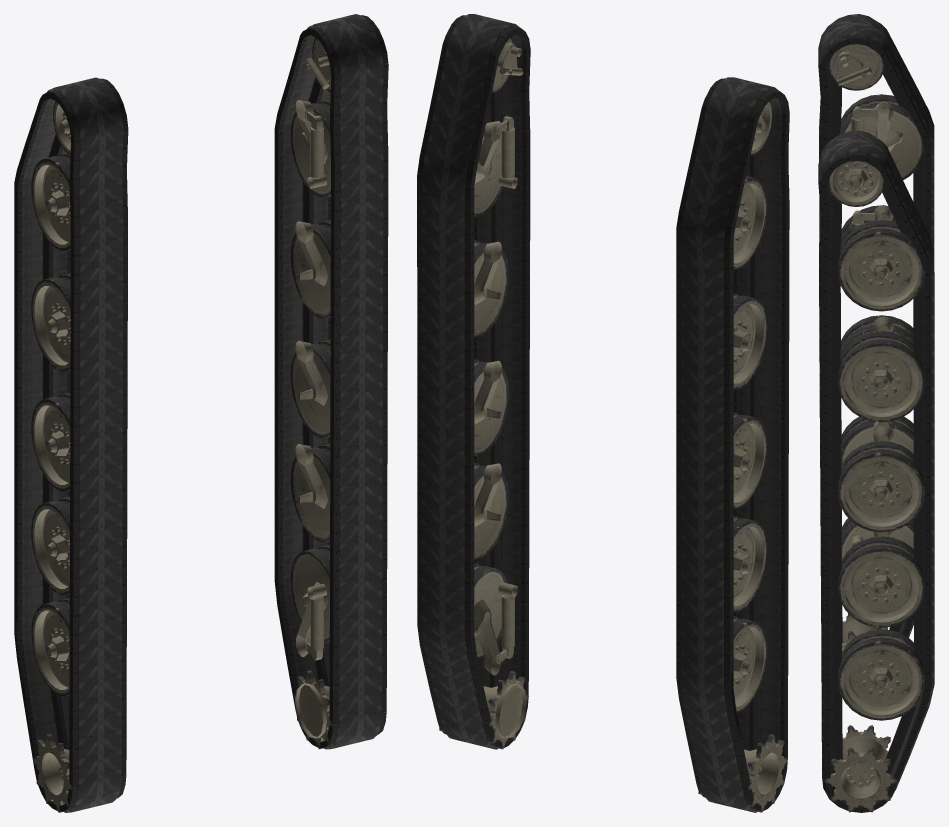
File: Chassis.glb
3 renders of one model, left to right at view 1: azimuth 30°, elevation 25°; view 2: azimuth 150°, elevation 25°; view 3: azimuth 270°, elevation 25°, orthographic. The views are drawn at different scales.
Parts seen in each view (by area): view 1: set_0_group_0, set_1_group_0, set_3_group_0, set_2_group_0; view 2: set_0_group_0, set_1_group_0, set_3_group_0, set_2_group_0; view 3: set_3_group_0, set_1_group_0, set_2_group_0, set_0_group_0.
Boxes of the visible parts, x1,y1,x2,y2 form: set_0_group_0: [14, 77, 128, 812]; set_1_group_0: [274, 14, 388, 749]; set_3_group_0: [290, 37, 386, 749]; set_2_group_0: [31, 101, 126, 812]; set_0_group_0: [676, 77, 789, 812]; set_1_group_0: [417, 14, 530, 749]; set_3_group_0: [439, 37, 528, 749]; set_2_group_0: [698, 101, 787, 812]; set_3_group_0: [824, 161, 924, 812]; set_1_group_0: [818, 130, 934, 812]; set_2_group_0: [828, 44, 924, 651]; set_0_group_0: [818, 14, 934, 642].
Bounding box in the file's own units: 3.12 × 6.84 × 1.09.
4 materials, 4 textured.
